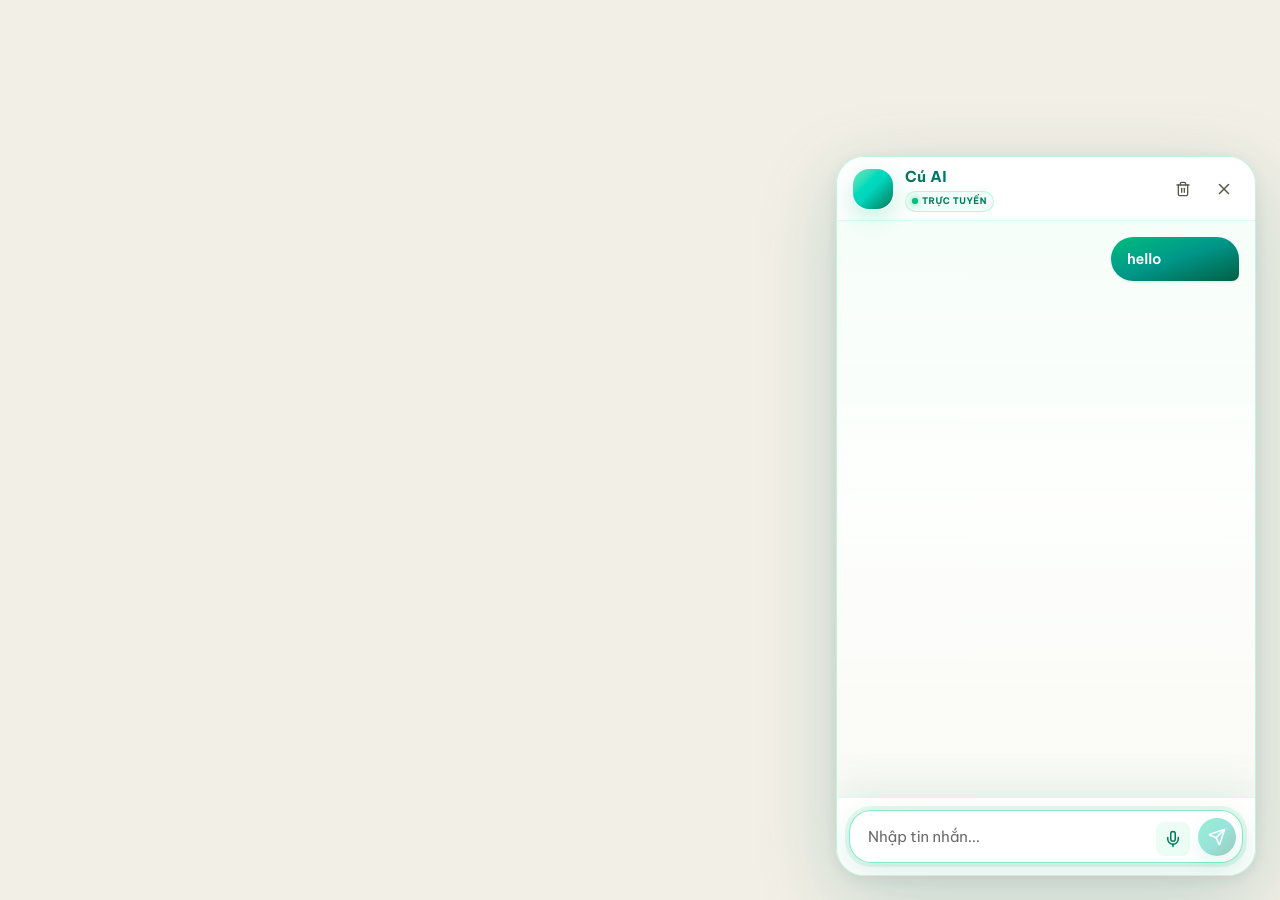
Scenario: AssistantPanel › executes /clear command
expect the text "hello" is shown: met, box top-left (1127, 249), bottom-right (1162, 268)
Type "/clear" into the text box with placeholder "Nhập tin nhắn..." at (1002, 836), box top-left (856, 817), bottom-right (1148, 856)
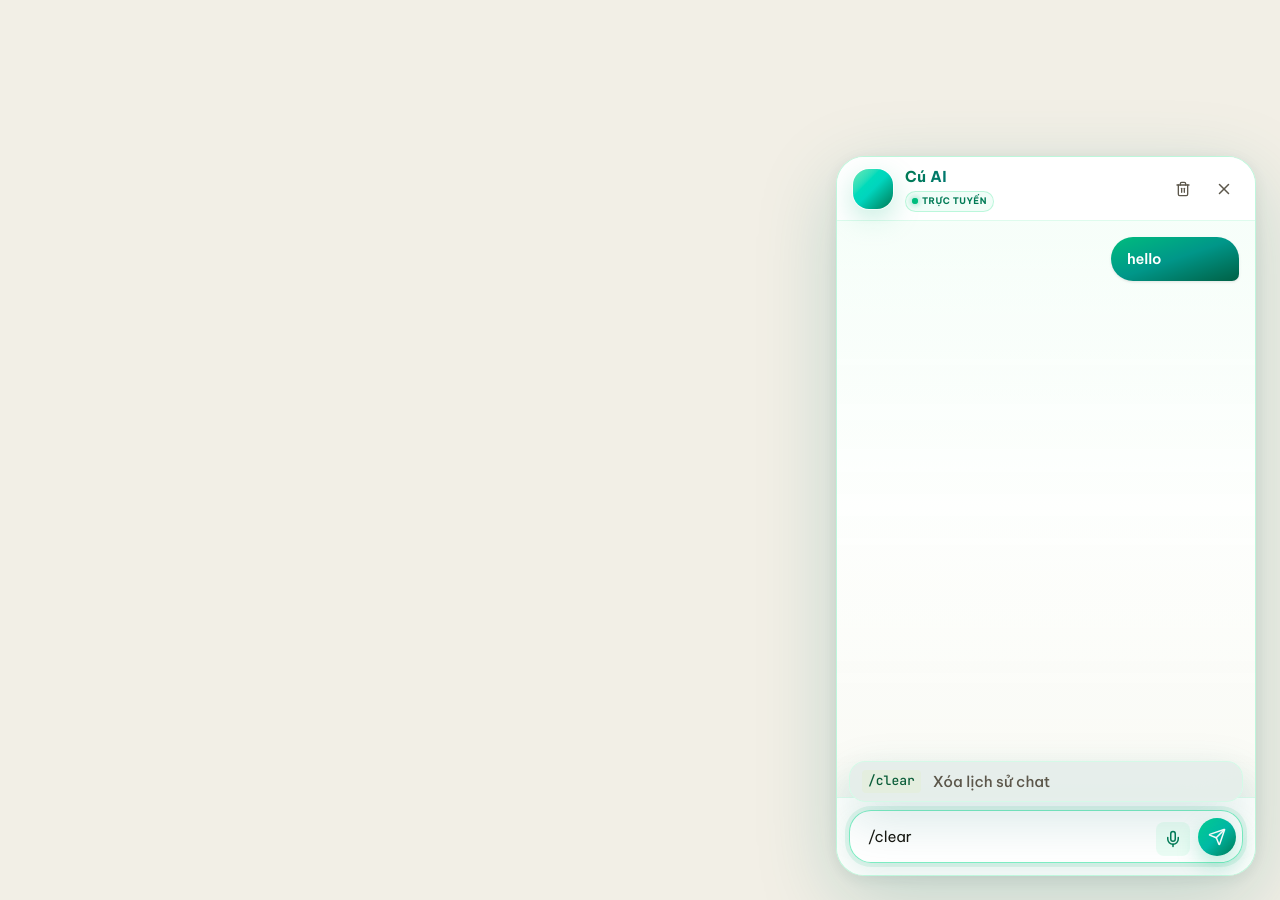
Press Enter
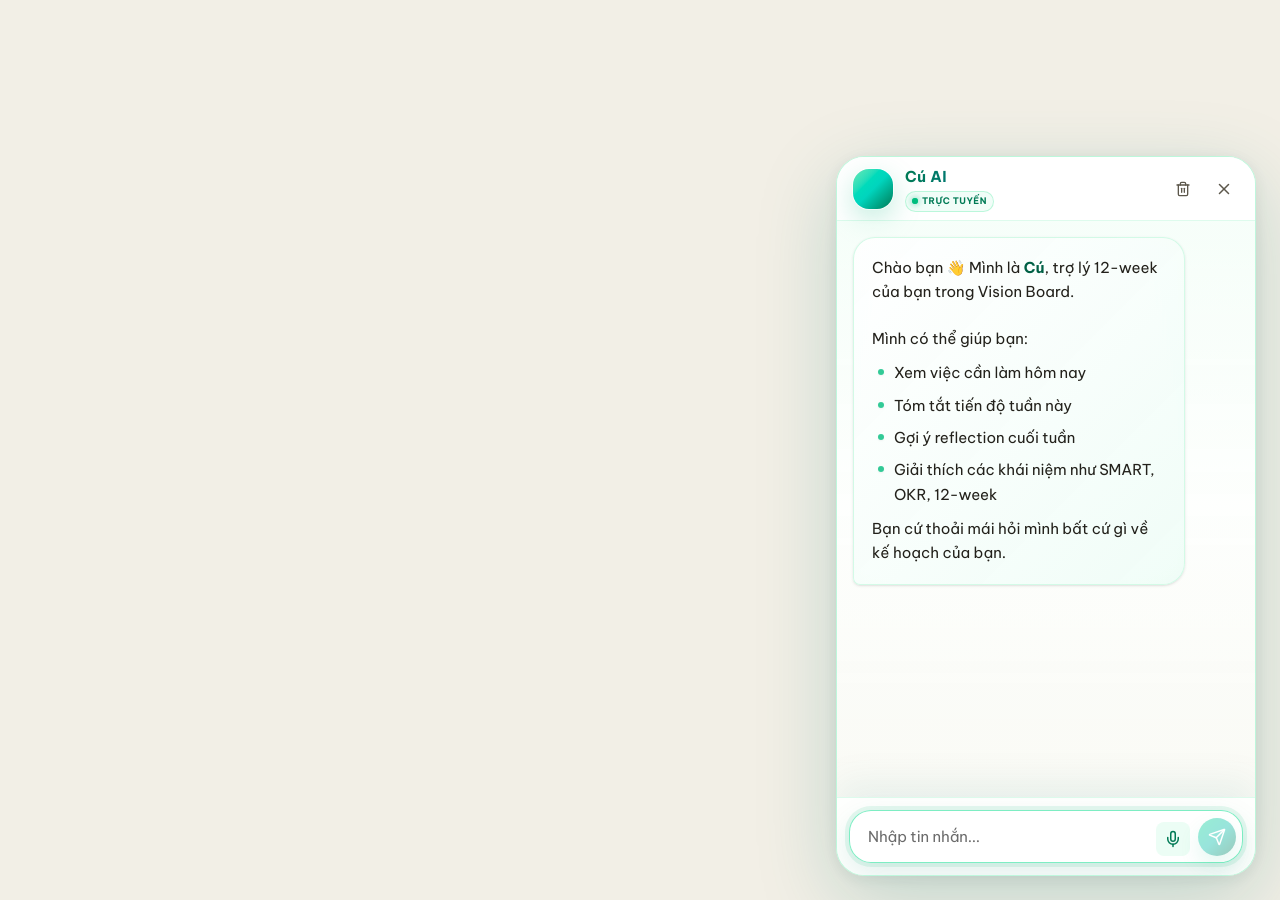
expect the text "hello" is gone: met
